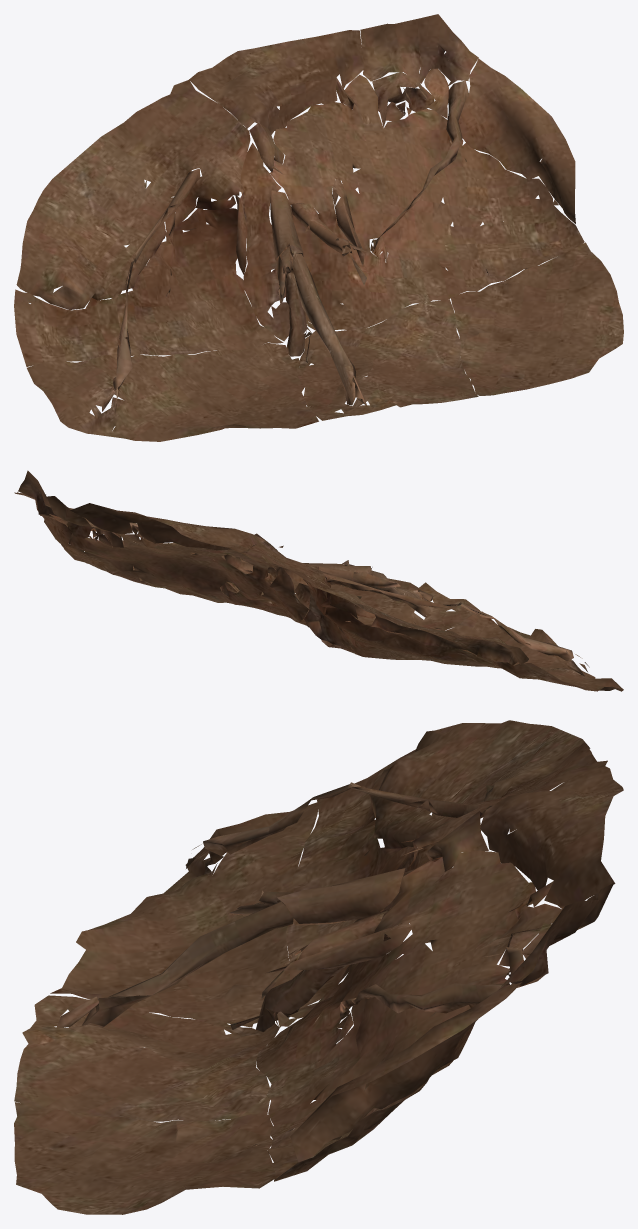
Rendered from root_cluster_01.glb.
The picture shows the model from 3 angles, top to bottom: view 1: azimuth 30°, elevation 25°; view 2: azimuth 150°, elevation 25°; view 3: azimuth 270°, elevation 25°; orthographic projection. The views are drawn at different scales.
Visible parts, largest first — view 1: Prop; view 2: Prop; view 3: Prop.
Boxes of the visible parts, x1,y1,x2,y2 form: Prop: (14,14,623,441); Prop: (14,470,623,691); Prop: (14,720,623,1214).
Bounding box in the file's own units: 4.12 × 1.5 × 2.68.
Materials: 1 (1 with a texture image).
